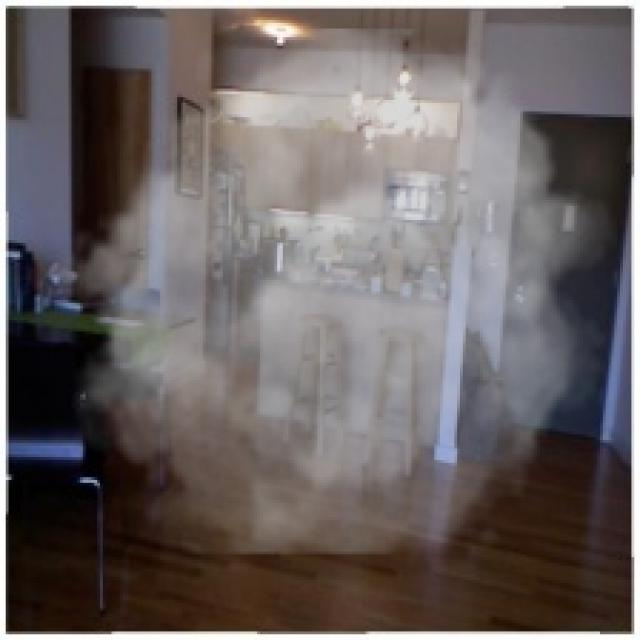smoke: (54, 29, 617, 554)
